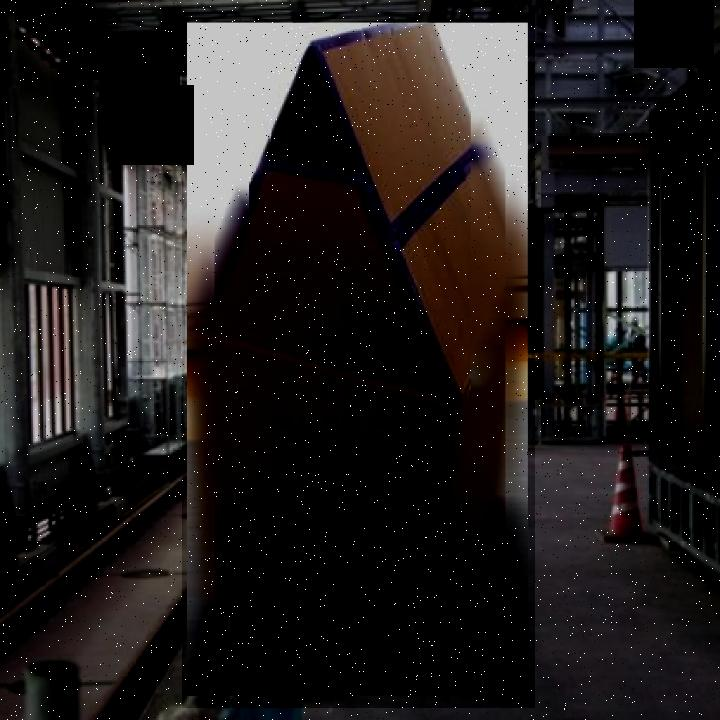box: (182, 12, 535, 708)
